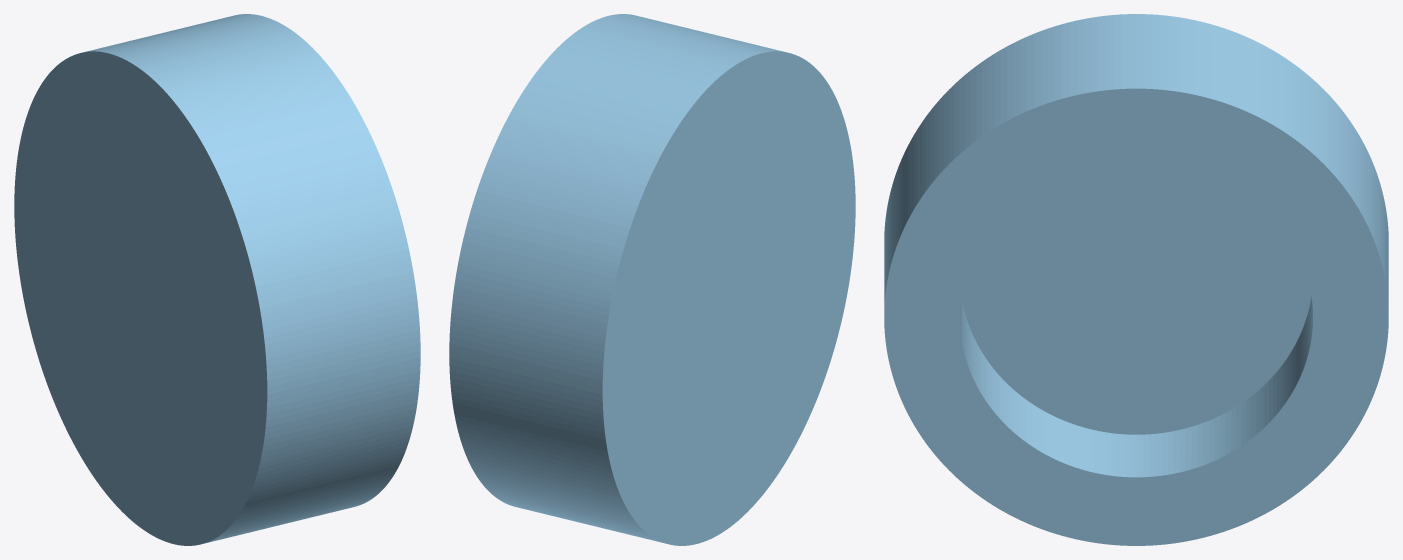
Rendered from wheel.dae.
3 views of the same model, side by side, from view 1: azimuth 30°, elevation 25°; view 2: azimuth 150°, elevation 25°; view 3: azimuth 270°, elevation 25° (orthographic).
Visible parts, largest first — view 1: 5e9c61941c51c81603745071; view 2: 5e9c61941c51c81603745071; view 3: 5e9c61941c51c81603745071.
Part boxes in pixels (x1=…): 5e9c61941c51c81603745071: x1=14, y1=14, x2=420, y2=545; 5e9c61941c51c81603745071: x1=449, y1=14, x2=855, y2=545; 5e9c61941c51c81603745071: x1=884, y1=14, x2=1388, y2=545.
Bounding box in the file's own units: 0.035 × 0.1 × 0.1.
